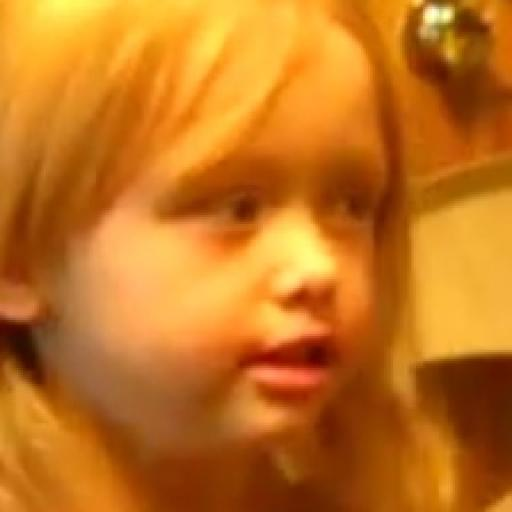Autism: (30, 22, 417, 495)
